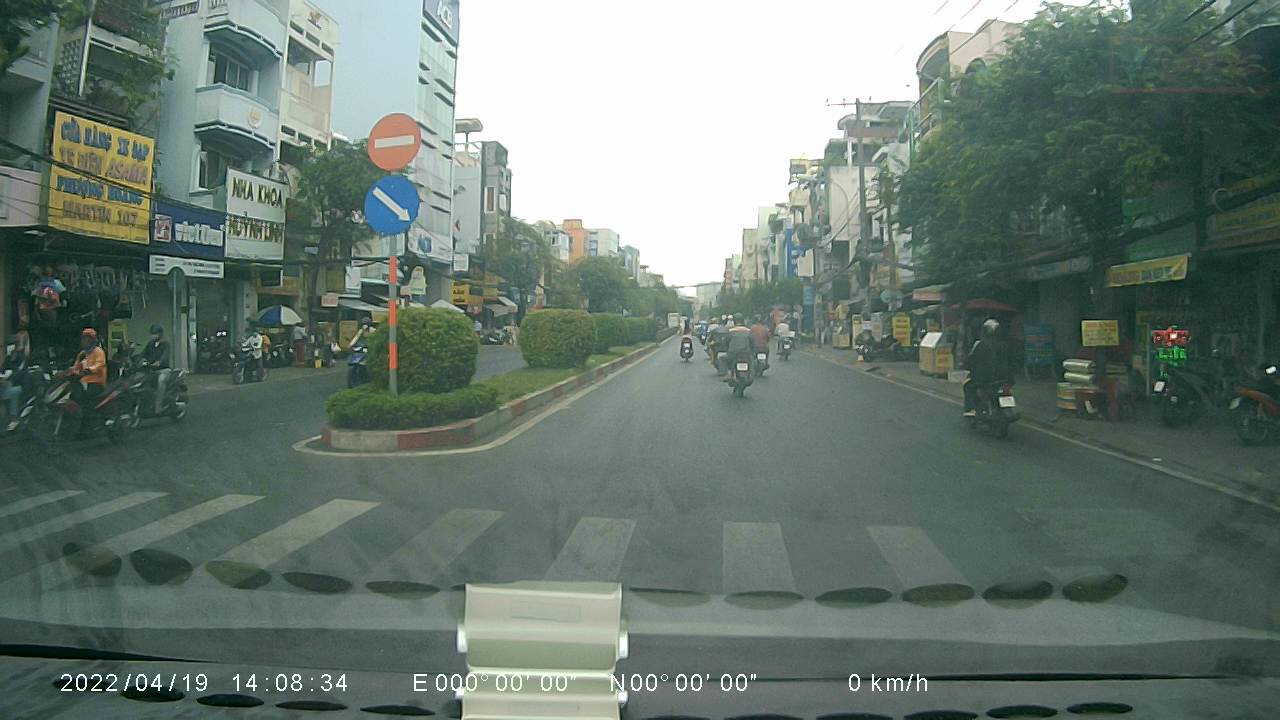Cam di nguoc chieu: (363, 111, 423, 169)
Huong di phai re phai: (362, 173, 423, 237)
